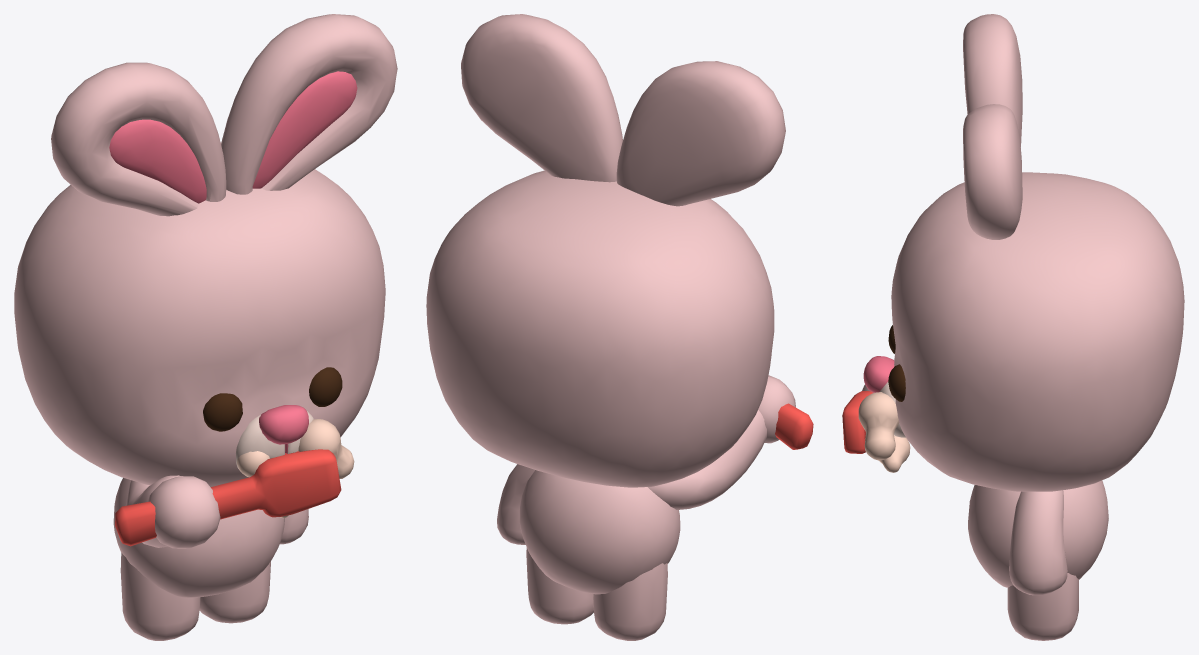
Rendered from capter4_brush.glb.
3 views of the same model, side by side, from view 1: azimuth 30°, elevation 25°; view 2: azimuth 150°, elevation 25°; view 3: azimuth 270°, elevation 25° (orthographic). The views are drawn at different scales.
Visible parts, largest first — view 1: 0017_primitive0; view 2: 0017_primitive0; view 3: 0017_primitive0.
Boxes of the visible parts, x1,y1,x2,y2 form: 0017_primitive0: (14, 14, 397, 640); 0017_primitive0: (426, 14, 813, 640); 0017_primitive0: (842, 14, 1184, 640).
Size of the model in its own units: 2.04 by 3.48 by 1.96.
Materials: 1 (1 with a texture image).
